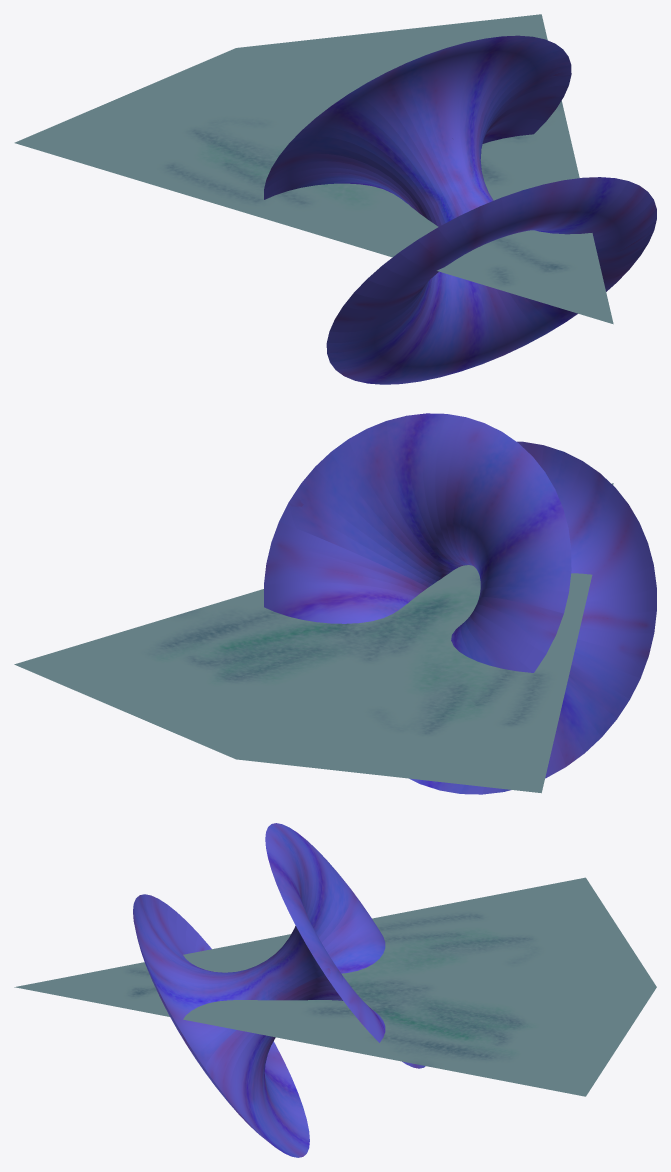
Rendered from Wormhole.fbx.
The picture shows the model from 3 angles, top to bottom: view 1: azimuth 30°, elevation 25°; view 2: azimuth 150°, elevation 25°; view 3: azimuth 270°, elevation 25°; orthographic projection. The views are drawn at different scales.
Parts seen in each view (by area): view 1: Torus.002; view 2: Torus.002; view 3: Torus.002.
Boxes of the visible parts, <box> form: Torus.002: <box>14,14,656,384</box>; Torus.002: <box>14,413,656,794</box>; Torus.002: <box>14,823,656,1157</box>.
Size of the model in its own units: 2828 by 1813 by 3505.
